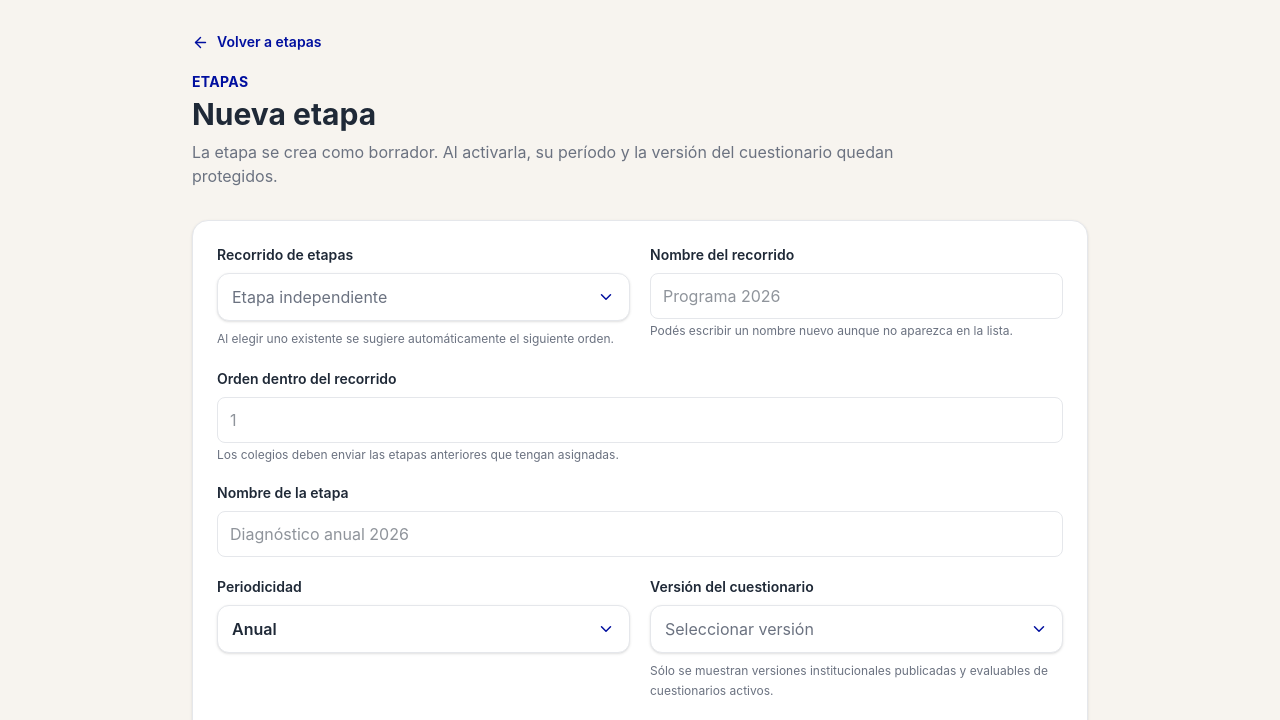
Test: CampaignFormPage programs › usa el desplegable reutilizable para seleccionar la versión
Click the button named "Versión del cuestionario" at (739, 629), box [650,605,1063,653]
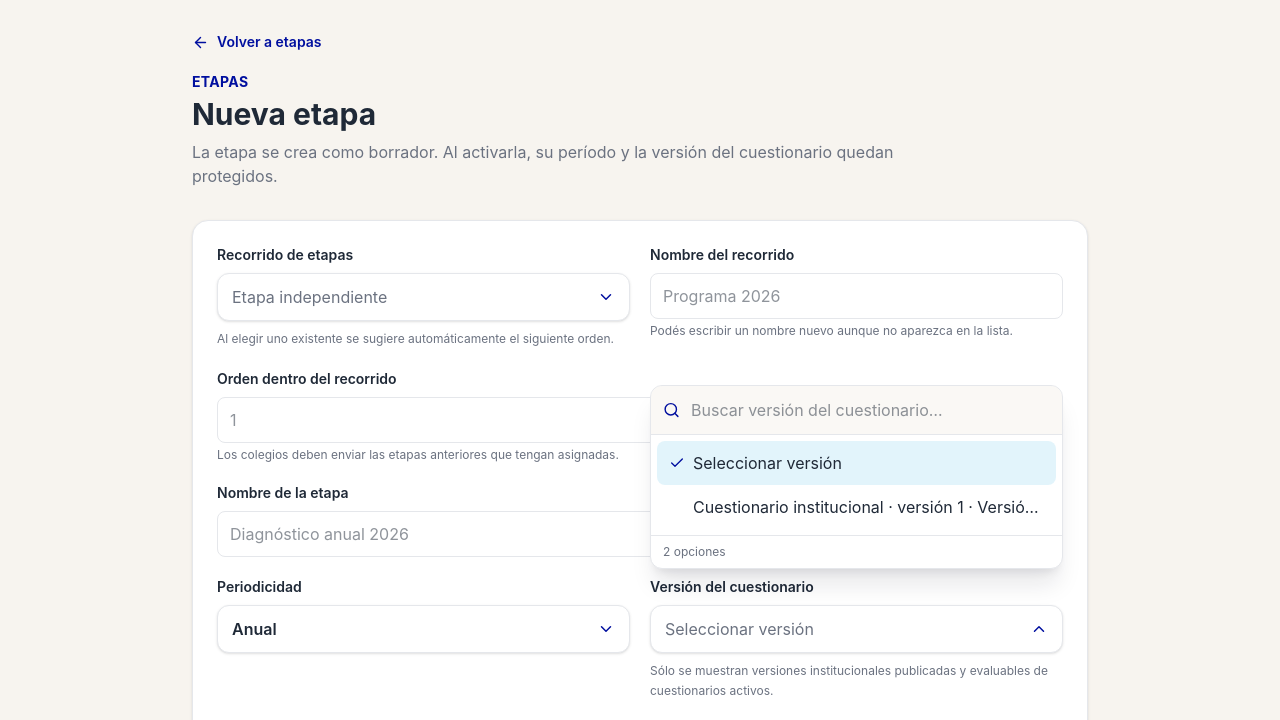
Now the dropdown named "Buscar en Versión del cuestionario" is shown, box [651,386,1062,434]
Click the option "Cuestionario institucional · versión 1 · Versión publicada" at (856, 507), box [657,485,1056,529]
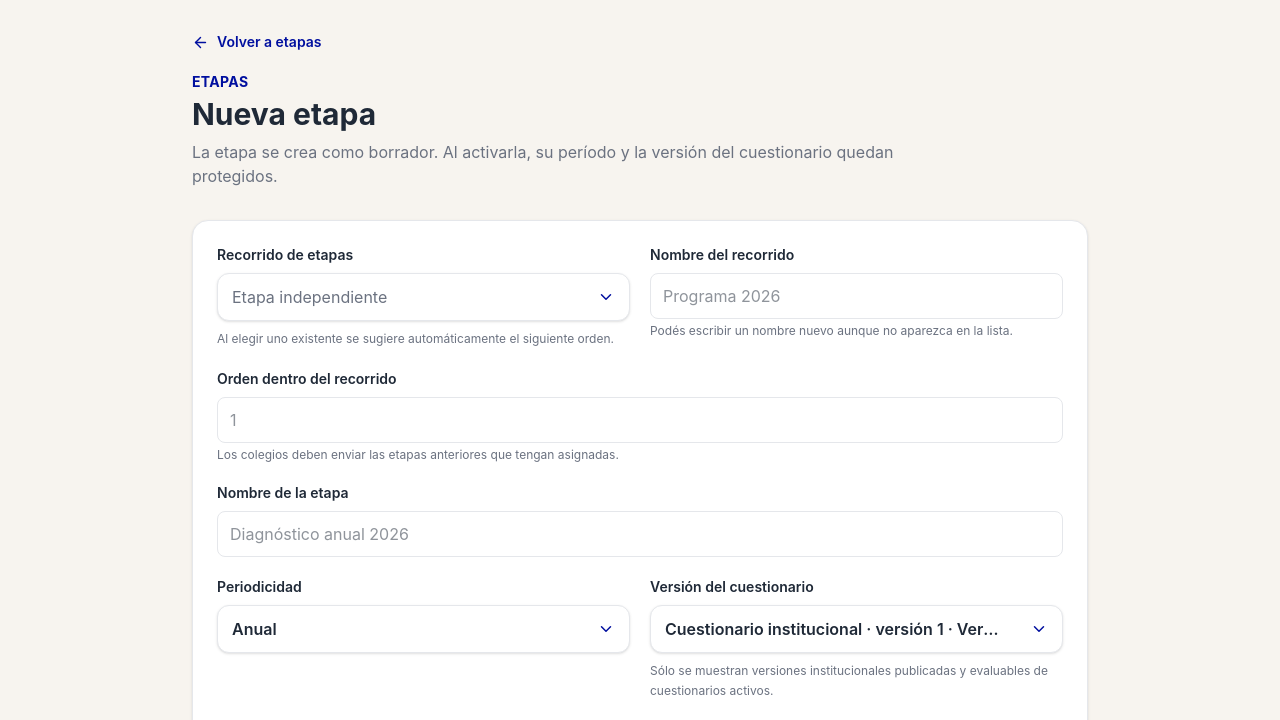
Expected: the text "Sólo se muestran versiones institucionales publicadas y evaluables de cuestionarios activos." is shown, [650,663,1048,698]
Now the button named "Versión del cuestionario" reads "Cuestionario institucional · versión 1 · Versión publicada", box [650,605,1063,653]
